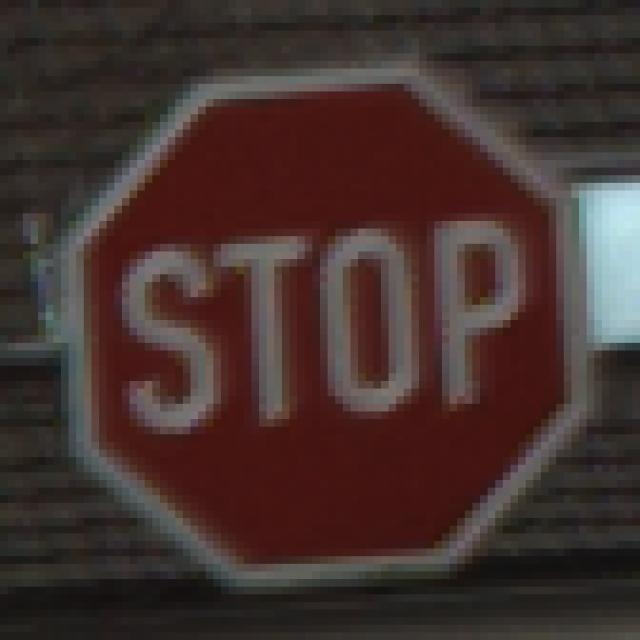STOP: (54, 62, 580, 588)
